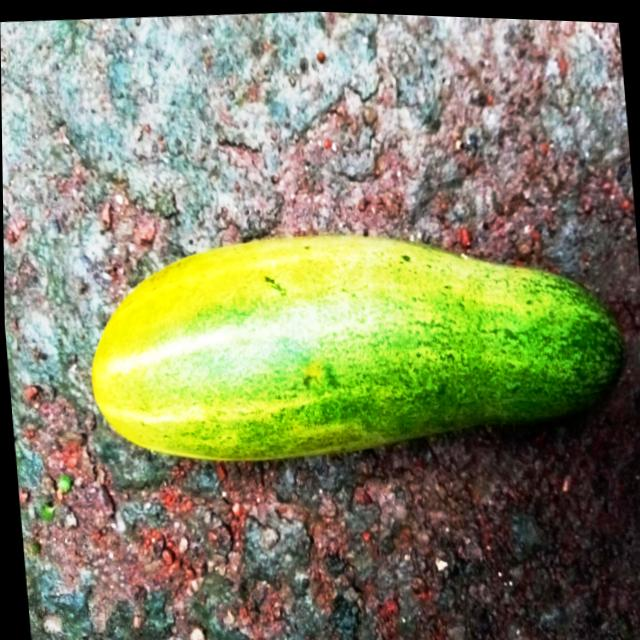Fresh-Cucumber: (77, 199, 640, 486)
